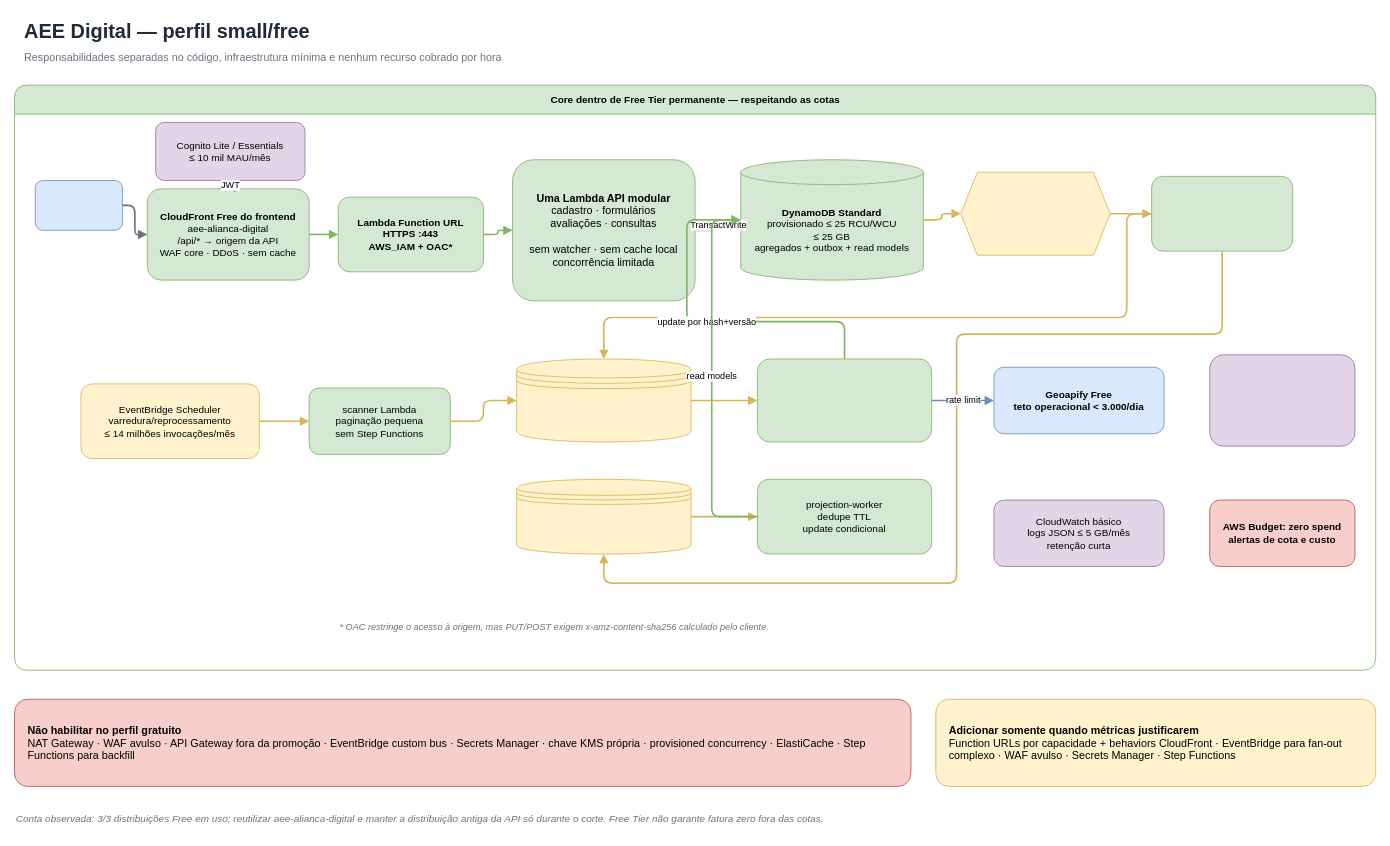
Image size: 1390x846. Some labels were removed from this diagram. Here are the shapes that lost their labels. From the top down, the box of each, then its label:
(34, 180, 122, 230): Clientes
(960, 171, 1110, 255): DynamoDB Streams ≤ 2,5 milhões leituras/mês
(1151, 176, 1293, 251): event-dispatcher eventId estável fan-out explícito
(516, 358, 691, 442): SQS Standard geocoding + DLQ parte de 1 milhão requests/mês
(757, 358, 932, 442): geocoding-worker reserved concurrency = 1 hash + versão + teto diário
(1209, 354, 1355, 446): Parameter Store Standard SecureString + alias/aws/ssm sem Secrets Manager/CMK
(516, 478, 691, 554): SQS Standard projections + DLQ batch de mensagens
